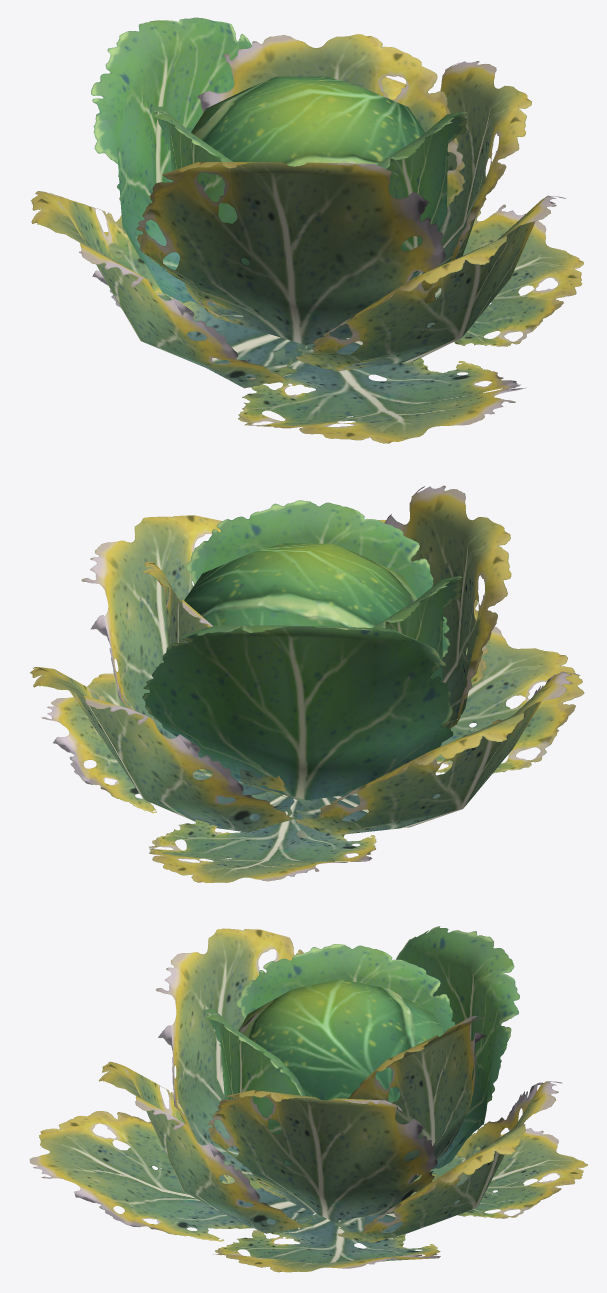
Rendered from plant_cabbage_S4.fbx.
3 views of the same model, one above another, from view 1: azimuth 30°, elevation 25°; view 2: azimuth 150°, elevation 25°; view 3: azimuth 270°, elevation 25° (orthographic). The views are drawn at different scales.
Parts seen in each view (by area): view 1: plant_cabbage_S4; view 2: plant_cabbage_S4; view 3: plant_cabbage_S4.
Part boxes in pixels (x1,y1,x2,y2): plant_cabbage_S4: (30, 17, 583, 443); plant_cabbage_S4: (30, 485, 584, 882); plant_cabbage_S4: (29, 926, 587, 1272).
Bounding box in the file's own units: 64.34 × 35.88 × 72.06.
